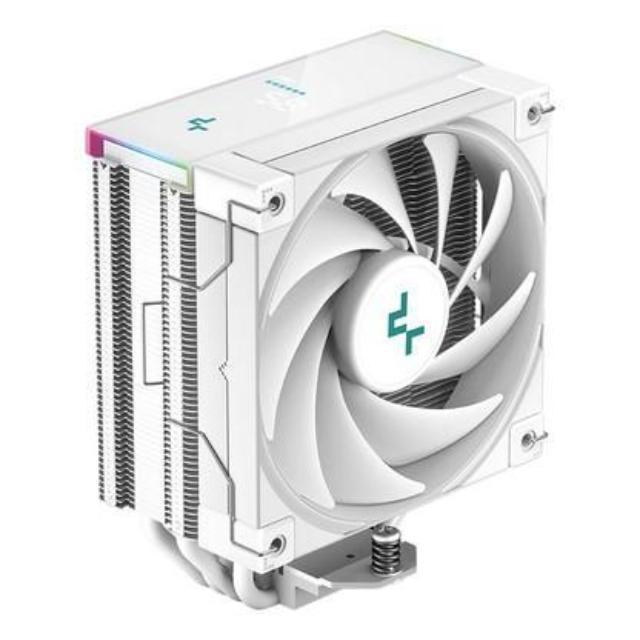CPU_Fan: (74, 26, 562, 622)
